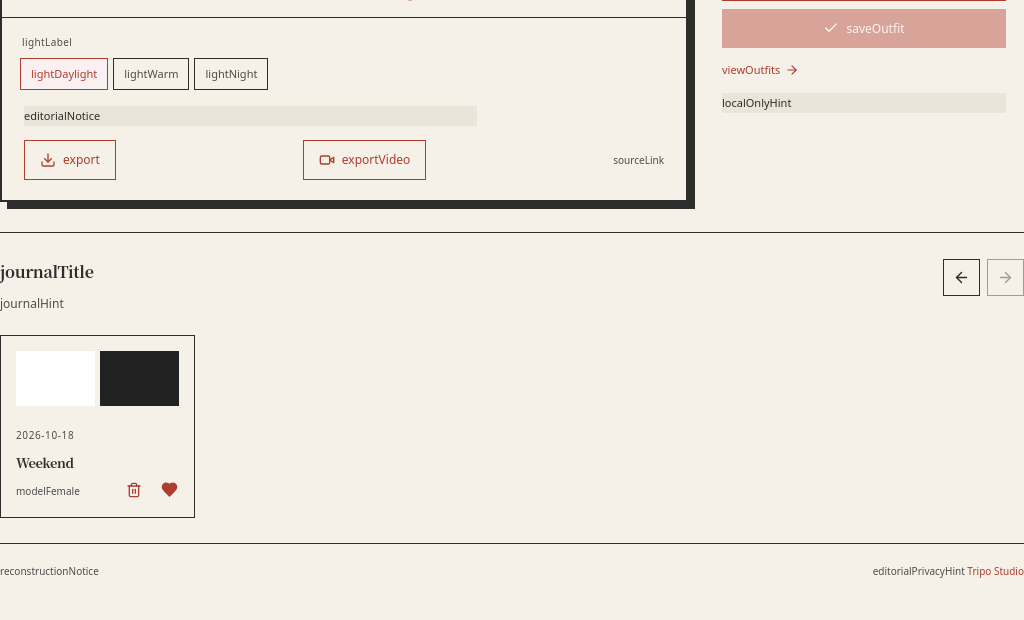
Test case: 3D avatar workspace › only deletes after explicit confirmation and shows a recoverable persistence error
This screenshot has width=1024, height=620.
(page scrolled)
Click the button named "deleteLook Weekend" at (134, 490), box 119,475 -> 149,505
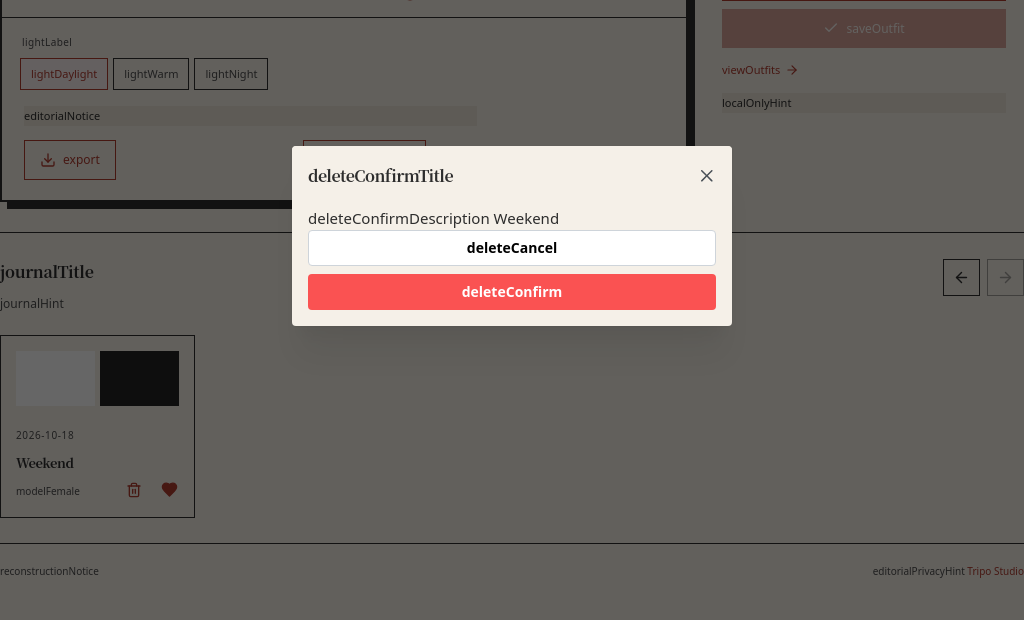
Click the button "deleteConfirm" at (512, 292), box 308,274 -> 716,310
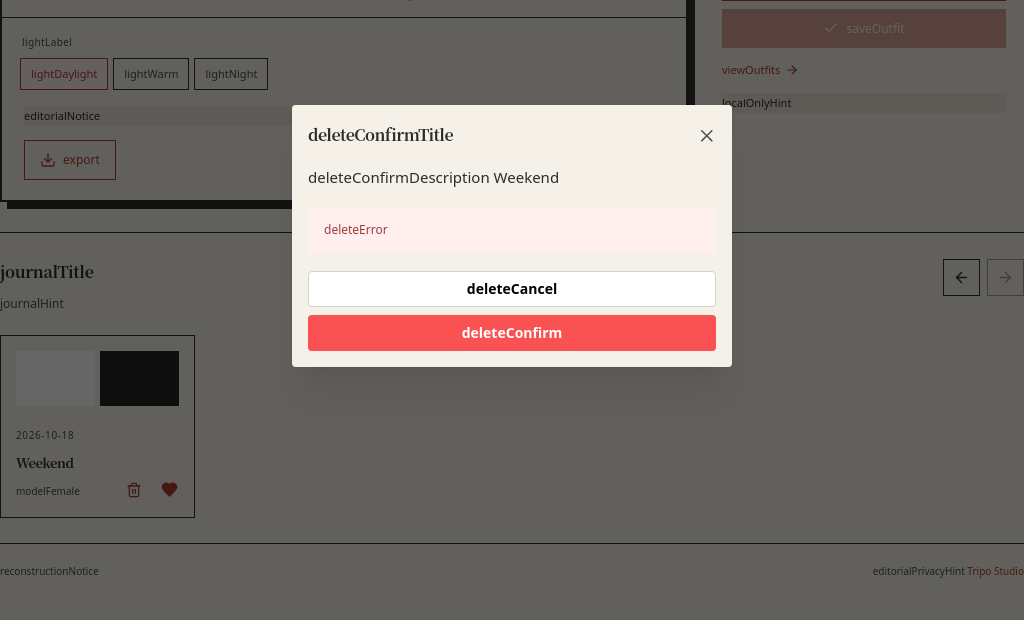
Expected: the button with aria-label "restoreLook Weekend" is shown, 1,336 -> 194,517
Expected: the text "deleteError" is shown, 308,208 -> 716,253
Click the button "deleteConfirm" at (512, 333), box 308,315 -> 716,351
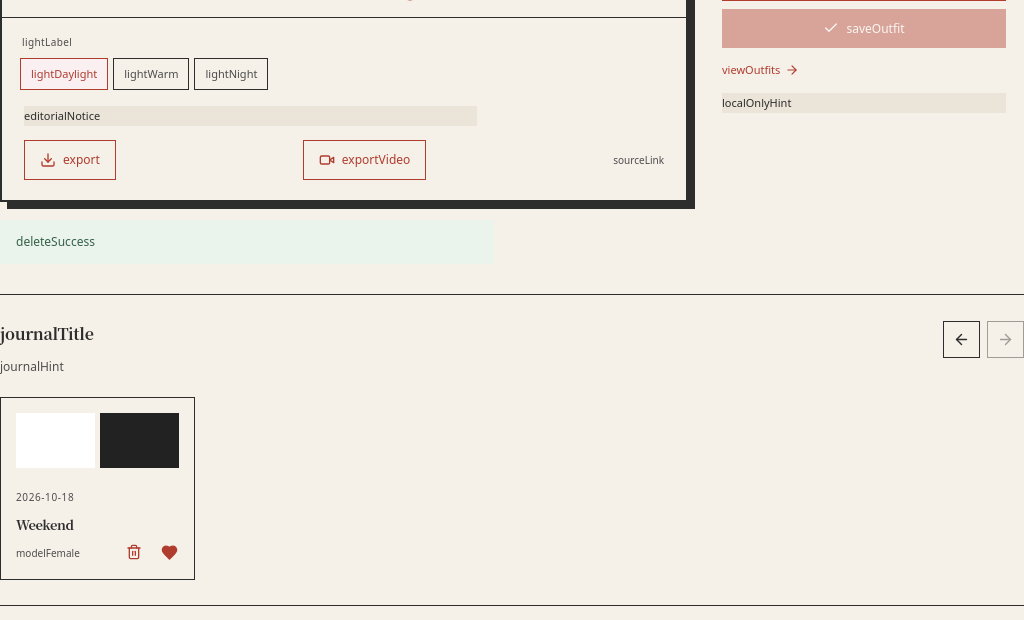
Expected: the text "deleteSuccess" is shown, 0,220 -> 494,264
